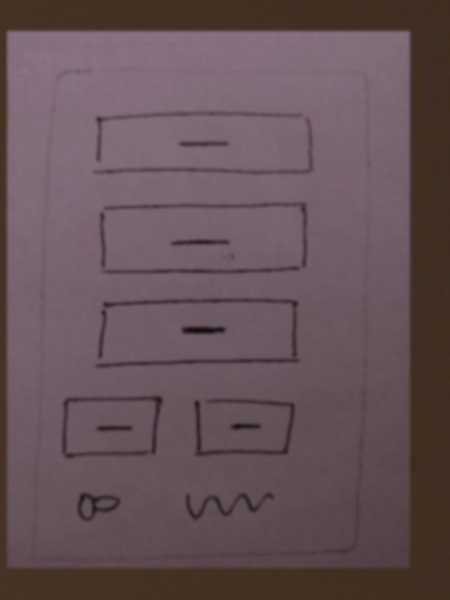button: (86, 99, 320, 182), (89, 201, 319, 278), (89, 293, 309, 373), (184, 392, 302, 468), (56, 391, 170, 466)
switch: (62, 486, 130, 525)
text: (175, 485, 279, 529)
